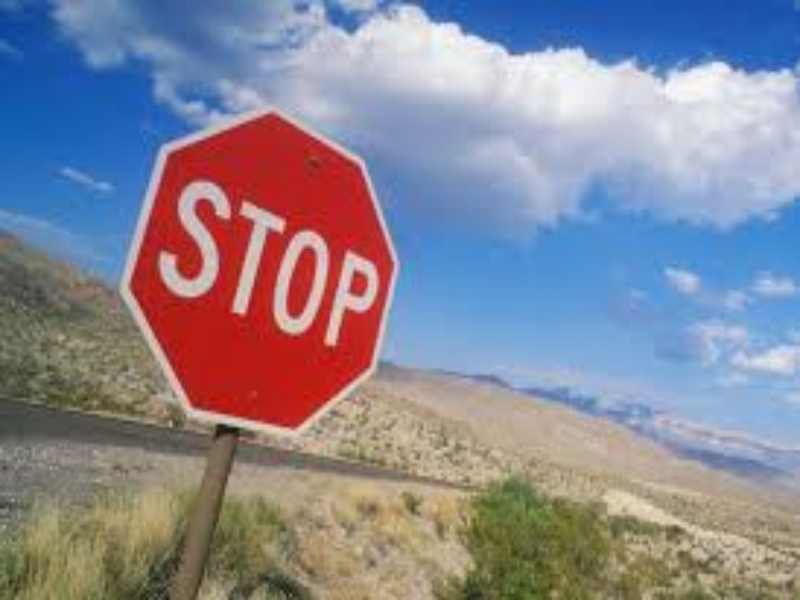Stop_Sign: (117, 109, 402, 438)
